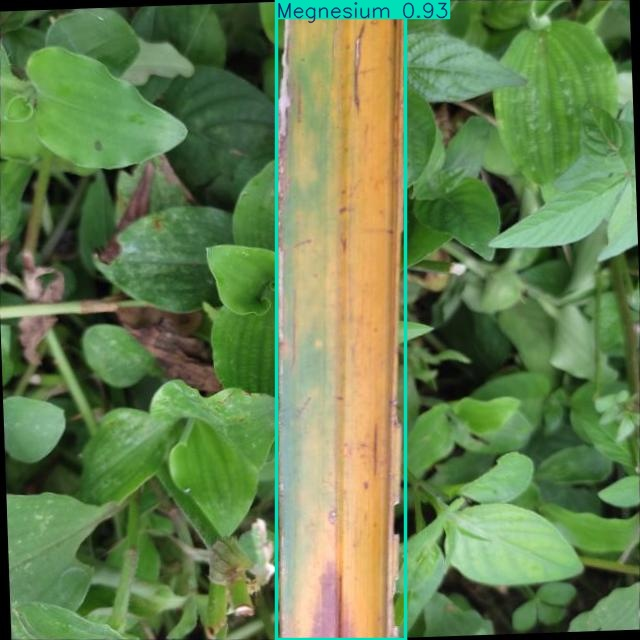Megnesium: (276, 0, 405, 639)
